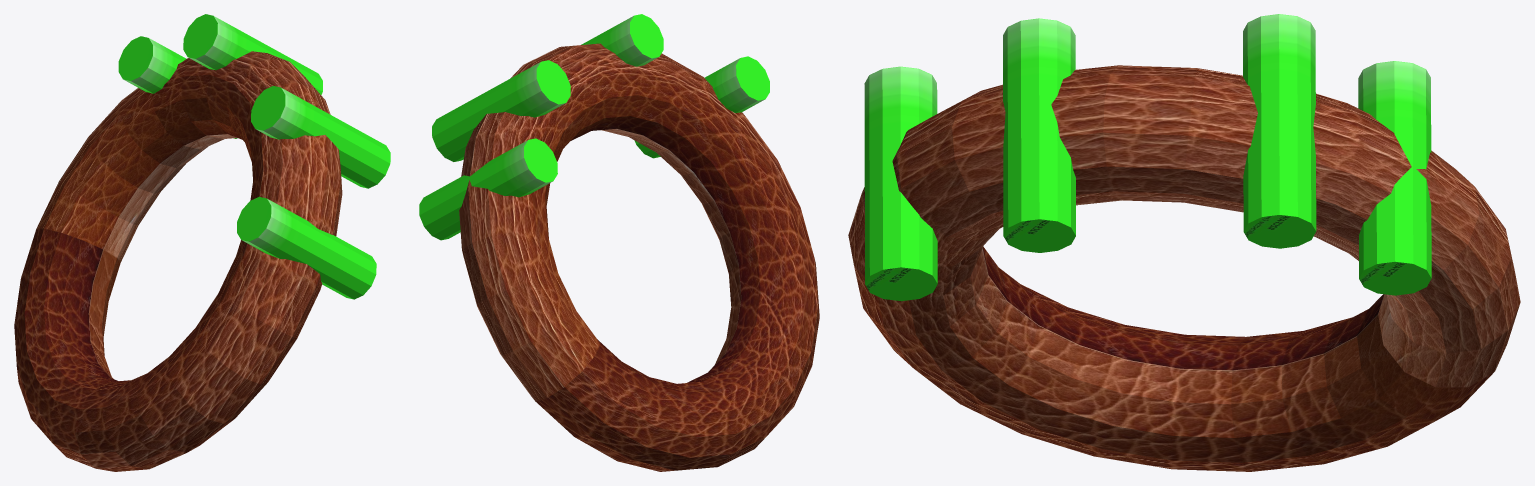
The picture shows the model from 3 angles, left to right: view 1: azimuth 30°, elevation 25°; view 2: azimuth 150°, elevation 25°; view 3: azimuth 270°, elevation 25°; orthographic projection. The views are drawn at different scales.
Visible parts, largest first — view 1: Cinturon.001; view 2: Cinturon.001; view 3: Cinturon.001.
Part boxes in pixels (left/top/right/bottom): Cinturon.001: left=14, top=14, right=390, bottom=471; Cinturon.001: left=419, top=14, right=819, bottom=471; Cinturon.001: left=848, top=14, right=1520, bottom=471.
Size of the model in its own units: 0.2861 by 0.3424 by 0.3702.
